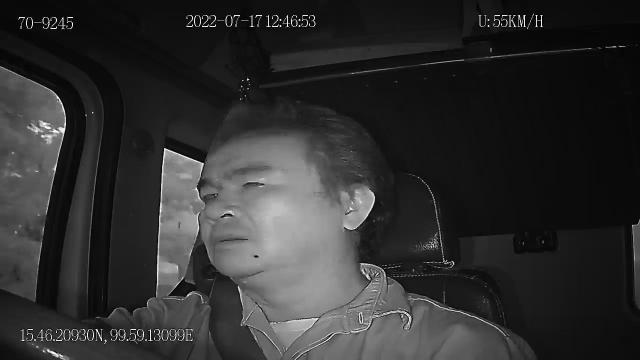SafeDriving: (232, 168, 283, 197)
Seatbelt: (208, 276, 270, 360)
